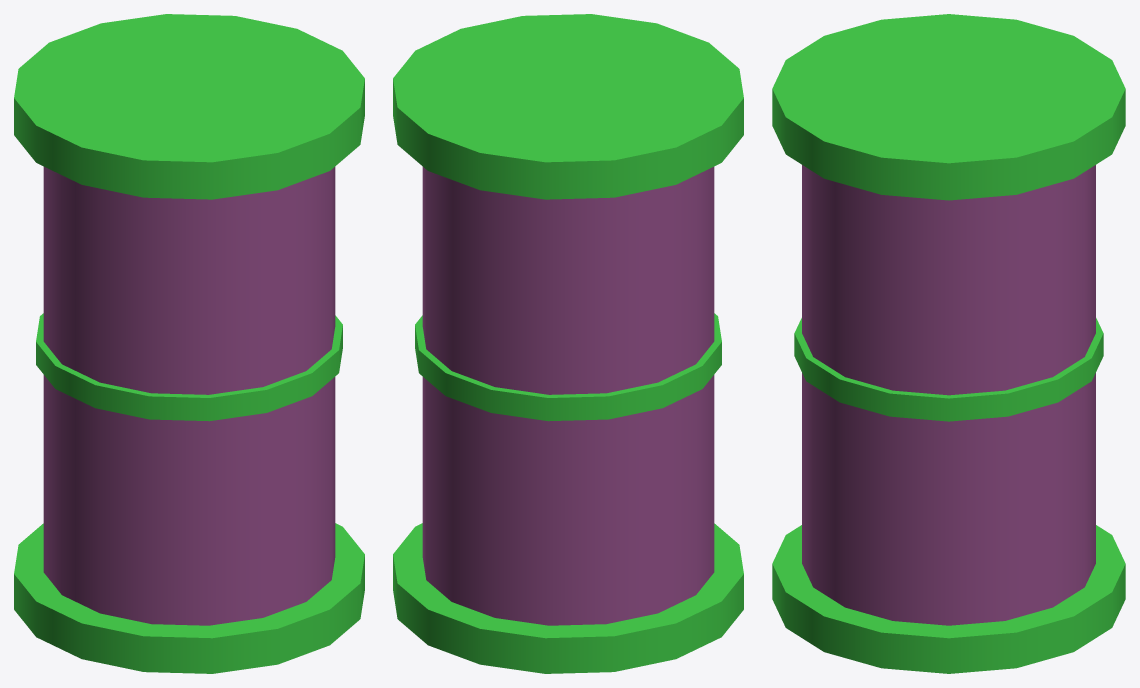
File: bonus.fbx
3 views of the same model, side by side, from view 1: azimuth 30°, elevation 25°; view 2: azimuth 150°, elevation 25°; view 3: azimuth 270°, elevation 25° (orthographic).
Visible parts, largest first — view 1: bonus; view 2: bonus; view 3: bonus.
Part boxes in pixels (x1=…): bonus: x1=14, y1=14, x2=364, y2=673; bonus: x1=393, y1=14, x2=743, y2=673; bonus: x1=772, y1=14, x2=1125, y2=673.
Bounding box in the file's own units: 2.4 × 3.83 × 2.4.
